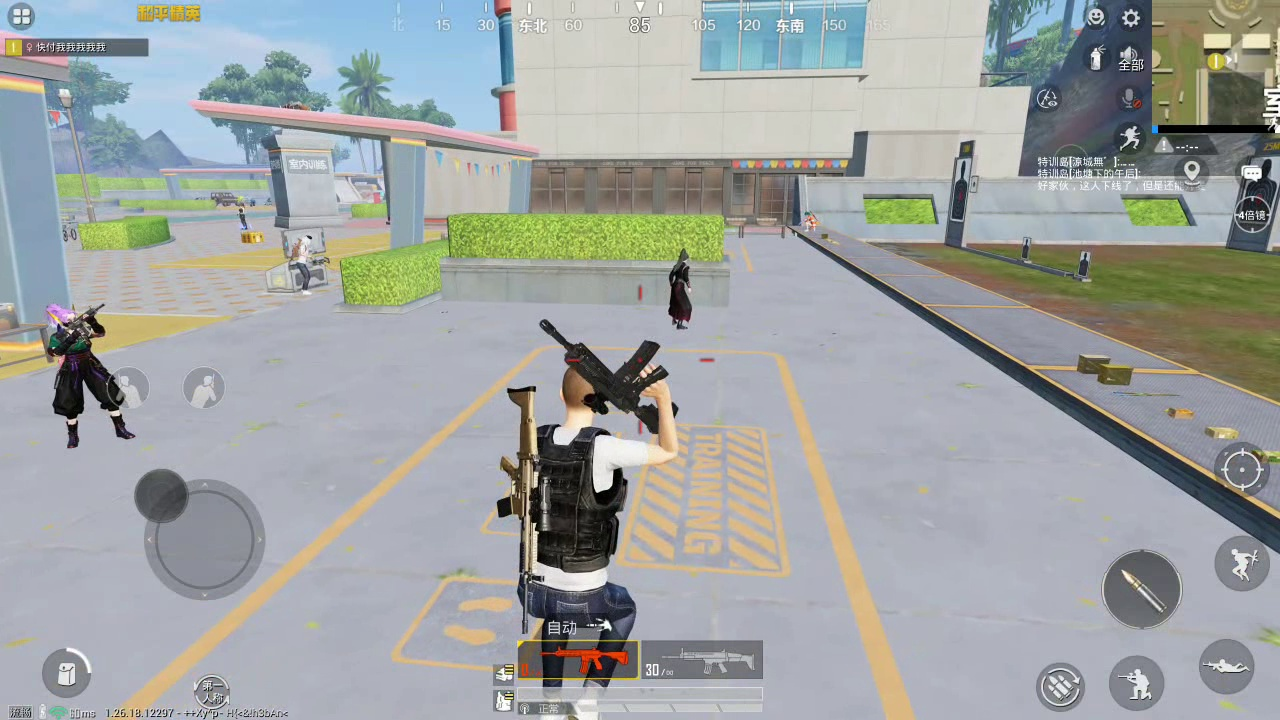enemy: (48, 307, 134, 452), (668, 252, 696, 333), (289, 229, 318, 295), (802, 207, 820, 235), (234, 202, 247, 225)
